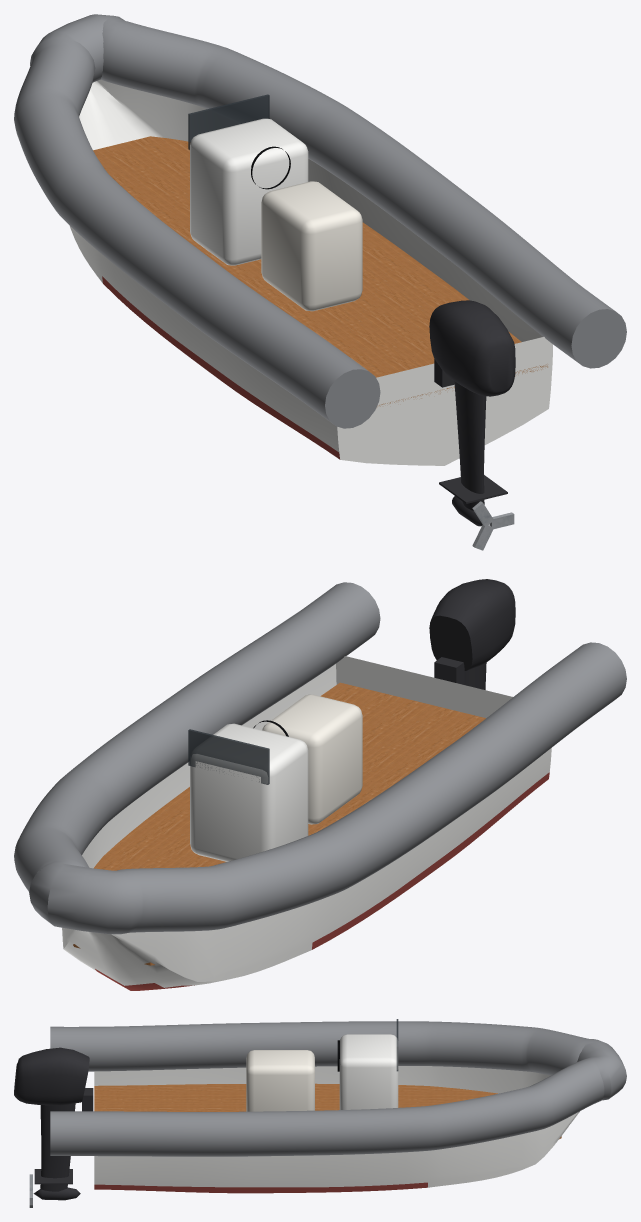
The model's file is boat_rib.gltf.
The picture shows the model from 3 angles, top to bottom: view 1: azimuth 30°, elevation 25°; view 2: azimuth 150°, elevation 25°; view 3: azimuth 270°, elevation 25°; orthographic projection. The views are drawn at different scales.
Parts seen in each view (by area): view 1: boat_rib; view 2: boat_rib; view 3: boat_rib.
Part boxes in pixels (box(x1,y1,x2,y2)): boat_rib: box(14, 14, 626, 550); boat_rib: box(14, 579, 626, 990); boat_rib: box(14, 1019, 626, 1207).
Size of the model in its own units: 2.6 by 2 by 6.25.
9 materials, 3 textured.
